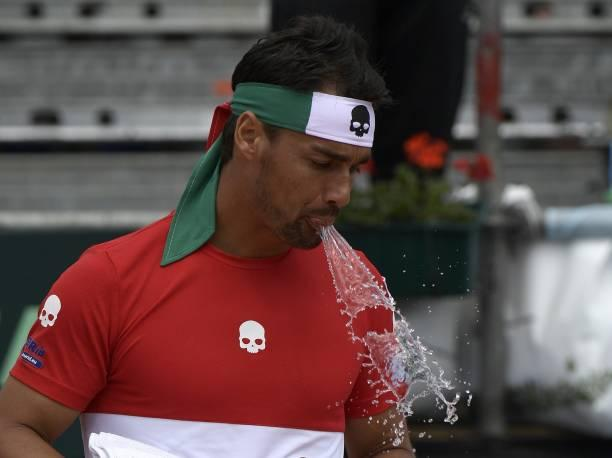Spitting: (165, 0, 420, 302)
